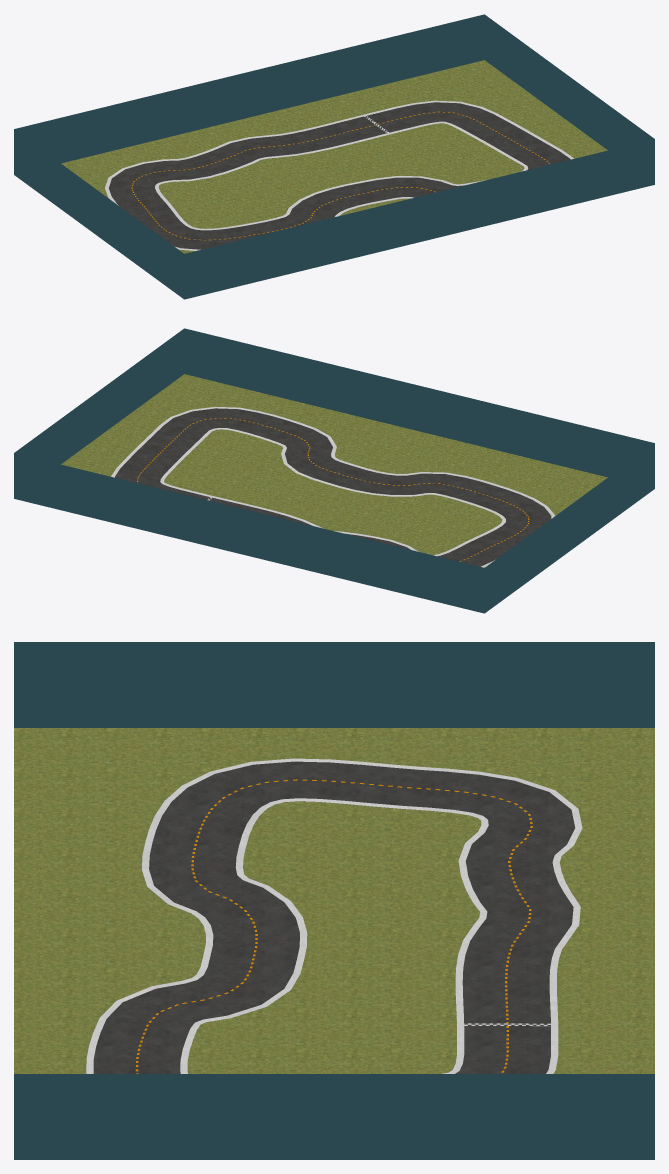
File: 2022_summit_speedway_mini.dae
3 renders of one model, top to bottom at view 1: azimuth 30°, elevation 25°; view 2: azimuth 150°, elevation 25°; view 3: azimuth 270°, elevation 25°, orthographic. The views are drawn at different scales.
Visible parts, largest first — view 1: wall, field, road, il, ol, cl; view 2: wall, field, road, il, ol, cl; view 3: field, wall, road, ol, il, cl.
Part boxes in pixels (x1,y1,x2,y2): wall: [14, 14, 654, 299]; field: [61, 60, 607, 253]; road: [109, 102, 570, 249]; il: [155, 121, 528, 230]; ol: [105, 100, 573, 250]; cl: [131, 111, 549, 240]; wall: [14, 328, 654, 613]; field: [61, 374, 607, 567]; road: [115, 408, 551, 566]; il: [160, 428, 505, 556]; ol: [111, 406, 555, 567]; cl: [137, 418, 529, 561]; field: [14, 728, 654, 1073]; wall: [14, 642, 654, 1159]; road: [93, 761, 575, 1073]; ol: [86, 758, 582, 1073]; il: [180, 798, 488, 1073]; cl: [135, 779, 532, 1073].
Size of the model in its own units: 10.76 by 6.75 by 1.
7 materials, 7 textured.
